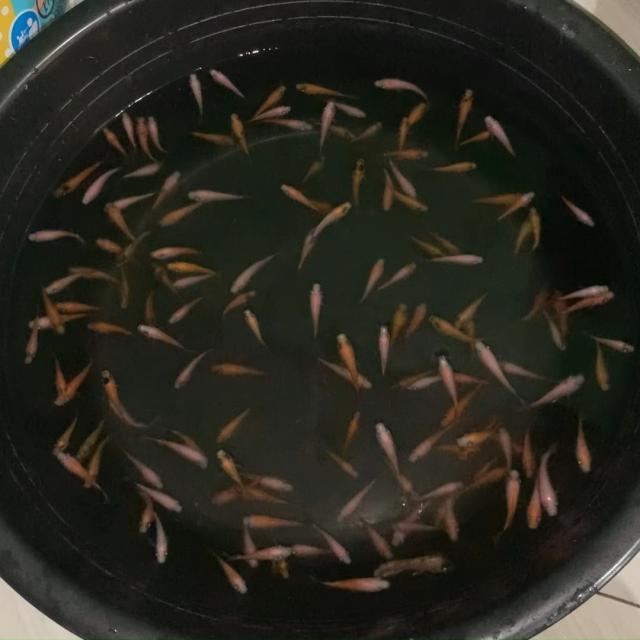nila: (472, 337, 524, 403), (56, 447, 111, 501), (518, 371, 586, 412), (228, 250, 282, 297), (108, 226, 156, 276), (51, 158, 106, 200), (144, 437, 210, 472), (408, 418, 454, 466), (441, 378, 484, 428), (126, 478, 184, 515), (117, 444, 165, 488), (54, 356, 94, 408), (493, 466, 522, 537), (316, 356, 371, 393), (308, 522, 354, 566), (80, 165, 127, 208), (334, 478, 378, 523), (536, 442, 562, 516), (374, 419, 404, 482), (426, 314, 489, 344), (377, 454, 418, 500), (353, 512, 394, 558), (517, 470, 546, 534), (310, 200, 353, 243), (82, 434, 114, 491), (382, 552, 458, 576), (174, 344, 212, 391), (484, 112, 521, 160), (384, 154, 422, 200), (495, 355, 552, 385), (137, 321, 190, 353), (337, 332, 362, 399), (211, 550, 249, 594), (457, 418, 495, 462), (218, 448, 250, 500), (457, 466, 509, 498), (556, 288, 613, 317), (212, 406, 252, 446), (452, 288, 494, 326), (354, 256, 384, 308), (436, 354, 461, 416), (304, 117, 360, 143), (148, 168, 180, 213), (110, 397, 158, 427), (314, 575, 394, 593), (227, 543, 299, 563), (77, 414, 108, 460), (451, 86, 474, 148), (106, 200, 138, 244), (212, 478, 262, 506), (556, 194, 596, 229), (29, 309, 91, 331), (39, 284, 65, 336), (96, 237, 146, 264), (590, 334, 613, 392), (372, 78, 432, 100), (232, 471, 292, 493), (373, 261, 417, 291), (293, 79, 358, 99), (210, 68, 248, 102), (494, 188, 534, 220), (149, 510, 171, 568), (570, 418, 594, 471), (167, 294, 206, 326), (582, 332, 636, 355), (251, 85, 286, 120), (551, 292, 574, 345), (508, 215, 536, 258), (296, 223, 320, 273), (240, 484, 290, 508), (52, 412, 78, 458), (456, 421, 502, 447), (42, 270, 86, 297), (520, 288, 553, 324), (390, 506, 421, 544), (135, 114, 159, 163), (228, 111, 255, 154), (184, 187, 252, 204), (384, 368, 432, 392), (339, 408, 362, 458), (188, 71, 210, 123), (110, 190, 162, 212), (390, 184, 428, 214), (279, 183, 317, 213), (26, 229, 86, 248), (148, 261, 178, 299), (385, 301, 408, 350), (240, 513, 310, 529), (243, 306, 269, 349), (103, 365, 124, 418), (322, 450, 359, 480), (158, 202, 202, 227), (415, 480, 465, 502), (440, 491, 460, 546), (86, 319, 133, 342), (541, 311, 566, 354), (181, 130, 240, 148), (134, 487, 156, 535), (405, 370, 453, 392), (210, 361, 272, 378), (370, 557, 420, 578), (497, 424, 518, 474), (286, 542, 344, 560), (170, 269, 222, 289), (402, 300, 428, 340), (424, 252, 488, 268), (170, 426, 204, 456), (440, 369, 491, 389), (221, 287, 256, 316), (146, 114, 170, 156), (22, 313, 40, 369), (375, 324, 393, 380), (558, 284, 614, 302), (520, 422, 538, 478), (147, 245, 206, 262), (268, 536, 291, 579), (348, 120, 384, 146), (306, 197, 346, 220), (318, 100, 336, 151), (118, 161, 163, 181), (70, 266, 115, 286), (470, 192, 530, 207), (166, 262, 222, 278), (388, 520, 452, 534), (468, 454, 500, 482), (310, 281, 324, 344), (411, 232, 446, 257), (300, 153, 328, 184), (524, 207, 542, 254), (420, 160, 480, 174), (248, 105, 292, 124), (50, 354, 68, 400), (262, 116, 312, 132), (242, 520, 258, 570), (428, 230, 461, 254), (120, 110, 139, 150), (378, 149, 432, 163), (460, 126, 494, 148), (102, 126, 126, 157), (353, 156, 367, 207), (490, 433, 524, 454), (332, 100, 369, 119), (118, 263, 132, 313), (381, 166, 395, 212), (432, 442, 474, 457), (433, 488, 448, 526), (407, 102, 427, 130), (54, 302, 104, 313), (466, 316, 479, 356), (396, 114, 408, 156), (146, 289, 156, 329), (122, 268, 130, 298)
